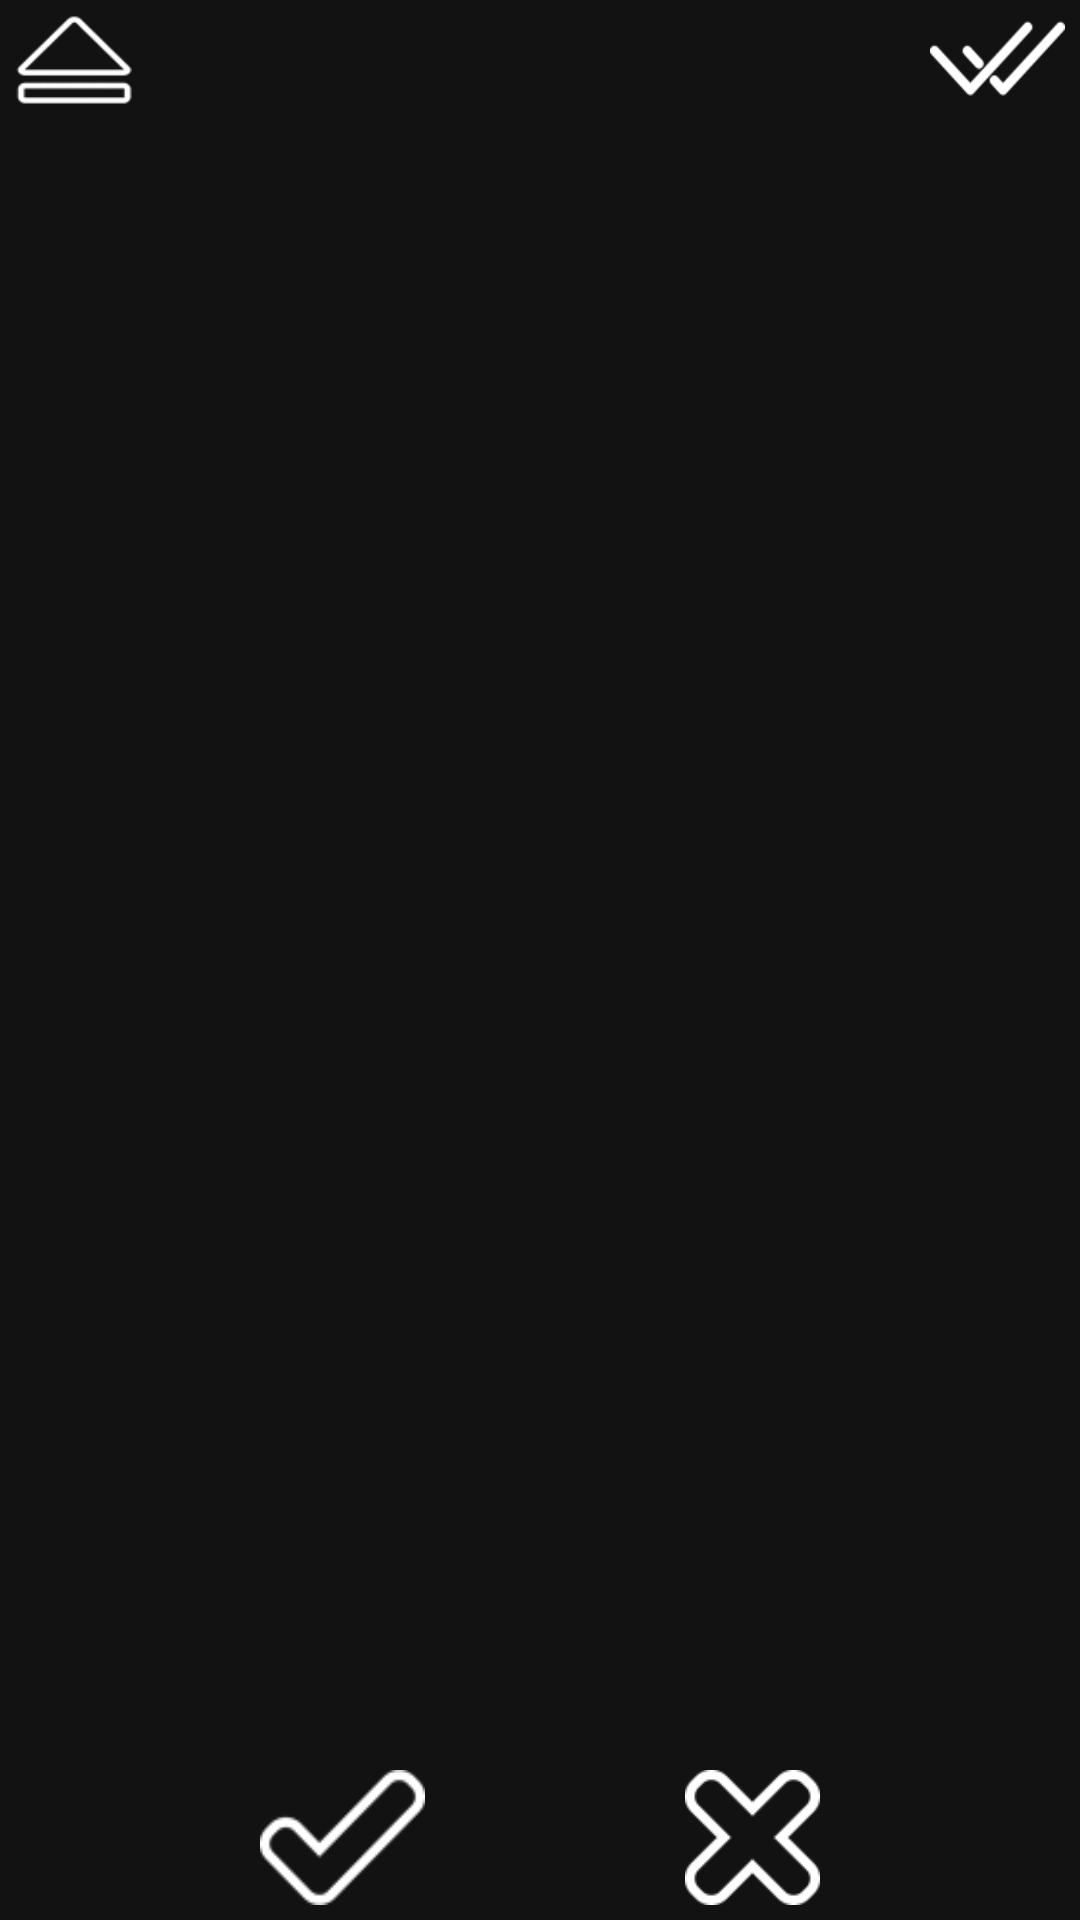

Icons on this 1080w x 1920h Android screen, each with the point to tap as [x,y]:
cancel: [752,1837]
choose all: [997,58]
